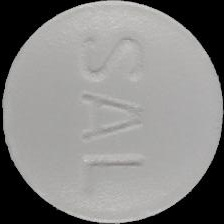68084-928: (0, 0, 224, 224)
